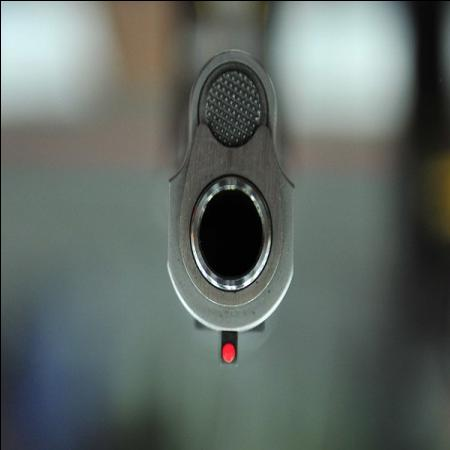Pistol: (159, 3, 300, 397)
